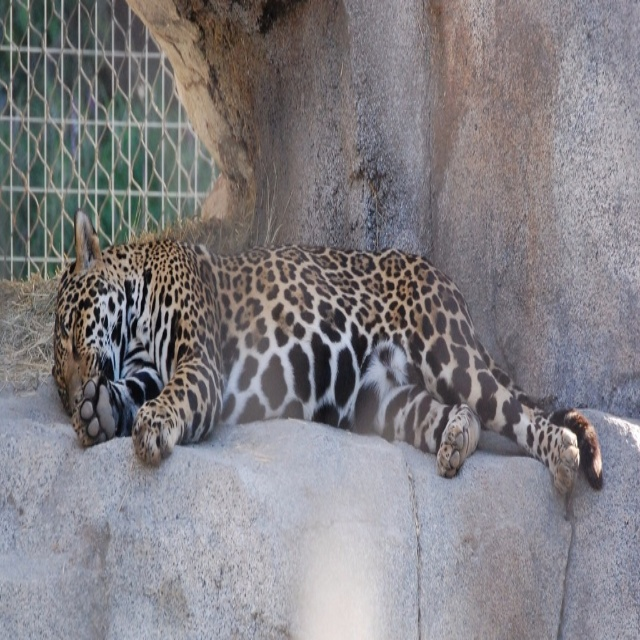Jaguar: (52, 211, 606, 497)
